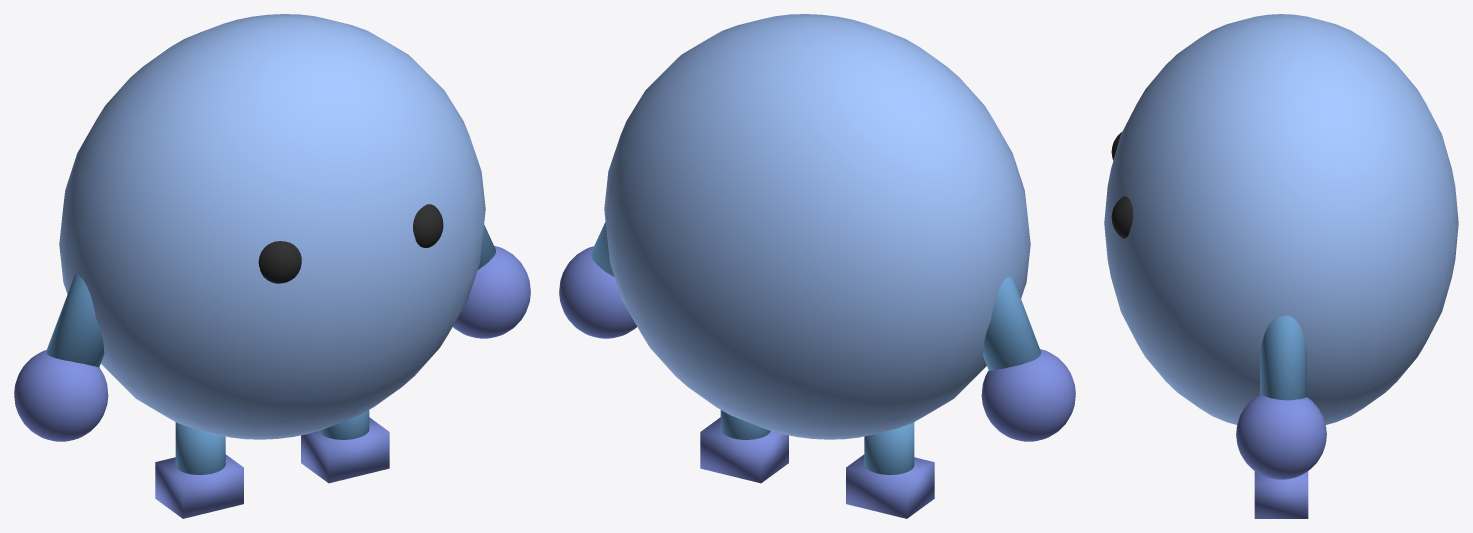
File: player.obj
3 views of the same model, side by side, from view 1: azimuth 30°, elevation 25°; view 2: azimuth 150°, elevation 25°; view 3: azimuth 270°, elevation 25° (orthographic). The views are drawn at different scales.
Parts seen in each view (by area): view 1: 球.008; view 2: 球.008; view 3: 球.008.
Boxes of the visible parts, x1,y1,x2,y2 form: 球.008: (14, 14, 530, 518); 球.008: (559, 14, 1075, 518); 球.008: (1104, 14, 1458, 518).
Size of the model in its own units: 2.4 by 2.06 by 1.52.
